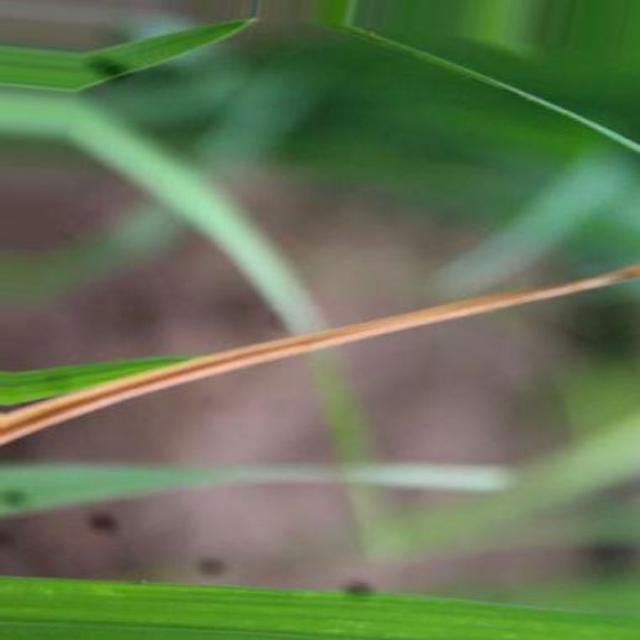Rice Tungro: (0, 266, 639, 443)
